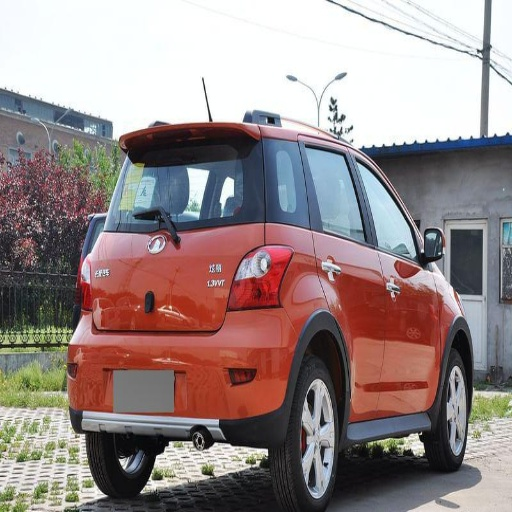back_bumper: (69, 305, 302, 442)
back_right_door: (292, 135, 390, 413)
trunk: (91, 225, 262, 330)
